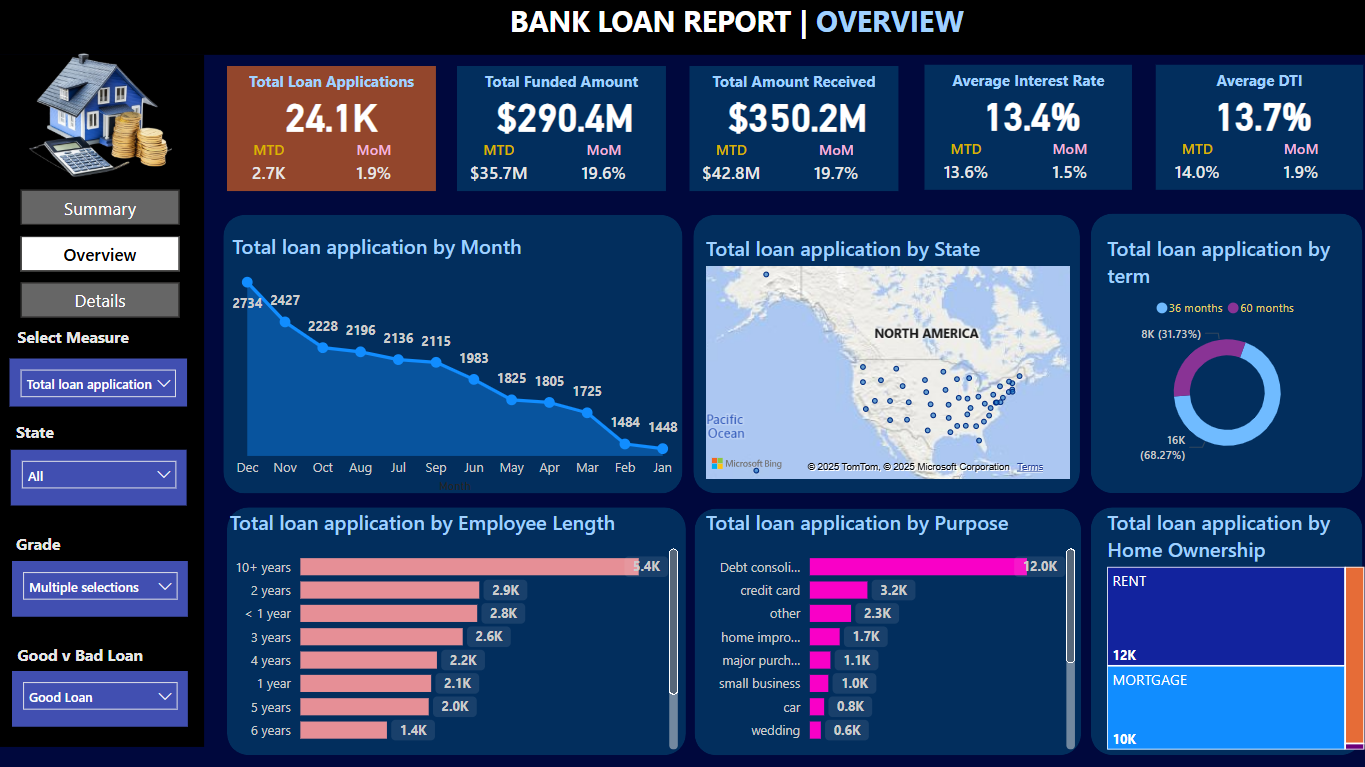

What the dashboard file says about the page in this screenshot:
{"tool":"powerbi","page":{"name":"Overview","canvas":[1280,720],"ordinal":1},"visuals":[{"type":"shape","box":[865,64,193.5,116.6],"z":0,"group":"g4"},{"type":"shape","box":[1081,64,193.5,116.6],"z":0,"group":"g5"},{"type":"shape","box":[214.3,65.4,194.9,116.6],"z":0,"group":"g1"},{"type":"shape","box":[428.9,65.4,194.9,116.6],"z":0,"group":"g2"},{"type":"shape","box":[646.3,65.4,194.9,116.6],"z":0,"group":"g3"},{"type":"shape","box":[211.5,204.5,428.5,260.2],"z":0},{"type":"shape","box":[1.4,54.3,192,645.6],"z":1000},{"type":"card","fields":{"Values":["bank_loan_data.Average Interest Rate"]},"box":[868.3,64.2,193.5,91.9],"z":1000,"group":"g4"},{"type":"card","fields":{"Values":["bank_loan_data.Average DTI"]},"box":[1084.3,64.2,193.5,91.9],"z":1000,"group":"g5"},{"type":"card","fields":{"Values":["bank_loan_data.Total loan application"]},"box":[214.3,65.4,194.9,91.9],"z":1000,"group":"g1"},{"type":"card","fields":{"Values":["bank_loan_data.Total Funded amount"]},"box":[432.2,65.6,194.9,91.9],"z":1000,"group":"g2"},{"type":"card","fields":{"Values":["bank_loan_data.Total Amouth Received"]},"box":[649.6,65.6,194.9,91.9],"z":1000,"group":"g3"},{"type":"shape","box":[0,0,1280.3,54.9],"z":2000},{"type":"textbox","box":[865,64,193.5,34.3],"z":2000,"group":"g4"},{"type":"textbox","box":[1081,64,193.5,34.3],"z":2000,"group":"g5"},{"type":"textbox","box":[214.3,65.4,194.9,34.3],"z":2000,"group":"g1"},{"type":"textbox","box":[428.9,65.4,194.9,34.3],"z":2000,"group":"g2"},{"type":"textbox","box":[646.3,65.4,194.9,34.3],"z":2000,"group":"g3"},{"type":"textbox","box":[473.4,0,470.7,64.5],"z":3000},{"type":"card","title":"MTD","fields":{"Values":["bank_loan_data.MTD Average Interest Rate"]},"box":[865,132.6,77.7,48],"z":3000,"group":"g4"},{"type":"card","title":"MTD","fields":{"Values":["bank_loan_data.MTD Average DTI"]},"box":[1081,132.6,77.7,48],"z":3000,"group":"g5"},{"type":"card","title":"MTD","fields":{"Values":["bank_loan_data.MTD Loan Application"]},"box":[214.3,134,78.2,48],"z":3000,"group":"g1"},{"type":"card","title":"MTD","fields":{"Values":["bank_loan_data.MTD Funded Amount"]},"box":[428.9,134,78.2,48],"z":3000,"group":"g2"},{"type":"card","title":"MTD","fields":{"Values":["bank_loan_data.MTD Total Amount received"]},"box":[646.3,134,78.2,48],"z":3000,"group":"g3"},{"type":"group","id":"g1","title":"Group 1","box":[214.3,65.4,194.8,116.9],"z":4000},{"type":"card","title":"MoM","fields":{"Values":["bank_loan_data.MoM Average Interest rate"]},"box":[961.8,132.6,77.7,48],"z":4000,"group":"g4"},{"type":"card","title":"MoM","fields":{"Values":["bank_loan_data.MoM Average DTI"]},"box":[1177.8,132.6,77.7,48],"z":4000,"group":"g5"},{"type":"card","title":"MoM","fields":{"Values":["bank_loan_data.MoM Loan Application"]},"box":[311.7,134,78.2,48],"z":4000,"group":"g1"},{"type":"card","title":"MoM","fields":{"Values":["bank_loan_data.MoM Total Funded Amount"]},"box":[526.3,134,78.2,48],"z":4000,"group":"g2"},{"type":"card","title":"MoM","fields":{"Values":["bank_loan_data.MoM Total Amount received"]},"box":[743.7,134,78.2,48],"z":4000,"group":"g3"},{"type":"group","id":"g2","title":"Group 1","box":[428.9,65.4,197.6,116.9],"z":5000},{"type":"group","id":"g3","title":"Group 1","box":[646.3,65.4,199,116.9],"z":6000},{"type":"group","id":"g4","title":"Group 1","box":[865,64,196.2,116.9],"z":7000},{"type":"group","id":"g5","title":"Group 1","box":[1081,64,196.2,116.9],"z":8000},{"type":"slicer","fields":{"Values":["bank_loan_data.address_state"]},"box":[13.1,423.3,164.4,52.4],"z":9000},{"type":"textbox","box":[13.1,391.3,65.5,30.5],"z":10000},{"type":"slicer","fields":{"Values":["bank_loan_data.grade"]},"box":[14.5,526.5,164.4,52.4],"z":11000},{"type":"textbox","box":[13.1,496,65.5,30.5],"z":12000},{"type":"slicer","fields":{"Values":["bank_loan_data.Good Vs Bad Loan"]},"box":[14.5,629.8,164.4,52.4],"z":13000},{"type":"textbox","box":[13.5,599.4,155.1,30.8],"z":14000},{"type":"areaChart","fields":{"Y":["bank_loan_data.Total Funded amount"],"Category":["Date Table.Month"]},"box":[214.3,219.8,425.7,247.7],"z":15000},{"type":"slicer","fields":{"Values":["Select Measure.Select Measure"]},"box":[11.1,338.1,165.6,44.5],"z":16000},{"type":"textbox","box":[13.9,303.3,123.8,30.6],"z":17000},{"type":"shape","box":[649.8,204.3,360.6,259.7],"z":18000},{"type":"map","fields":{"X":["bank_loan_data.Total Funded amount"],"Category":["bank_loan_data.address_state"]},"box":[656,222.8,349.5,232.6],"z":19000},{"type":"shape","box":[1020.3,203.1,253.5,260.9],"z":20000},{"type":"donutChart","fields":{"Y":["bank_loan_data.Total Funded amount"],"Category":["bank_loan_data.term"]},"box":[1030.2,222.8,233.8,217.8],"z":21000},{"type":"shape","box":[214.2,476.3,428.3,231.4],"z":22000},{"type":"barChart","fields":{"Y":["bank_loan_data.Total Funded amount"],"Category":["bank_loan_data.emp_length"]},"box":[211.7,477.5,428.3,230.2],"z":23000},{"type":"shape","box":[651.1,477.5,360.6,230.2],"z":24000},{"type":"barChart","fields":{"Y":["bank_loan_data.Total Funded amount"],"Category":["bank_loan_data.purpose"]},"box":[656,477.5,354.5,230.2],"z":25000},{"type":"shape","box":[1020.3,476.3,253.5,231.4],"z":26000},{"type":"treemap","fields":{"Values":["bank_loan_data.Total Funded amount"],"Group":["bank_loan_data.home_ownership"]},"box":[1030.2,477.5,249.8,230.2],"z":27000},{"type":"pageNavigator","box":[22.2,180.9,148.9,121.8],"z":27001},{"type":"image","box":[1.2,30.8,192,150.2],"z":27002}]}

Visuals, with their boxes in screenshot pixels (x1, y1, x2, y2), scaled from the page's 1280x720 canvas onto the 1365x767 screenshot:
shape: 922 68 1129 192
shape: 1153 68 1359 192
shape: 229 70 436 194
shape: 457 70 665 194
shape: 689 70 897 194
shape: 226 218 682 495
shape: 1 58 206 746
card - bank_loan_data.Average Interest Rate: 926 68 1132 166
card - bank_loan_data.Average DTI: 1156 68 1363 166
card - bank_loan_data.Total loan application: 229 70 436 168
card - bank_loan_data.Total Funded amount: 461 70 669 168
card - bank_loan_data.Total Amouth Received: 693 70 901 168
shape: 0 0 1364 58
textbox: 922 68 1129 105
textbox: 1153 68 1359 105
textbox: 229 70 436 106
textbox: 457 70 665 106
textbox: 689 70 897 106
textbox: 505 0 1007 69
"MTD" card: 922 141 1005 192
"MTD" card: 1153 141 1236 192
"MTD" card: 229 143 312 194
"MTD" card: 457 143 541 194
"MTD" card: 689 143 773 194
"Group 1" group: 229 70 436 194
"MoM" card: 1026 141 1109 192
"MoM" card: 1256 141 1339 192
"MoM" card: 332 143 416 194
"MoM" card: 561 143 645 194
"MoM" card: 793 143 876 194
"Group 1" group: 457 70 668 194
"Group 1" group: 689 70 901 194
"Group 1" group: 922 68 1132 193
"Group 1" group: 1153 68 1362 193
slicer - bank_loan_data.address_state: 14 451 189 507
textbox: 14 417 84 449
slicer - bank_loan_data.grade: 15 561 191 617
textbox: 14 528 84 561
slicer - bank_loan_data.Good Vs Bad Loan: 15 671 191 727
textbox: 14 639 180 671
areaChart - bank_loan_data.Total Funded amount x Date Table.Month: 229 234 682 498
slicer - Select Measure.Select Measure: 12 360 188 408
textbox: 15 323 147 356
shape: 693 218 1077 494
map - bank_loan_data.Total Funded amount x bank_loan_data.address_state: 700 237 1072 485
shape: 1088 216 1358 494
donutChart - bank_loan_data.Total Funded amount x bank_loan_data.term: 1099 237 1348 469
shape: 228 507 685 754
barChart - bank_loan_data.Total Funded amount x bank_loan_data.emp_length: 226 509 682 754
shape: 694 509 1079 754
barChart - bank_loan_data.Total Funded amount x bank_loan_data.purpose: 700 509 1078 754
shape: 1088 507 1358 754
treemap - bank_loan_data.Total Funded amount x bank_loan_data.home_ownership: 1099 509 1364 754
pageNavigator: 24 193 182 322
image: 1 33 206 193
